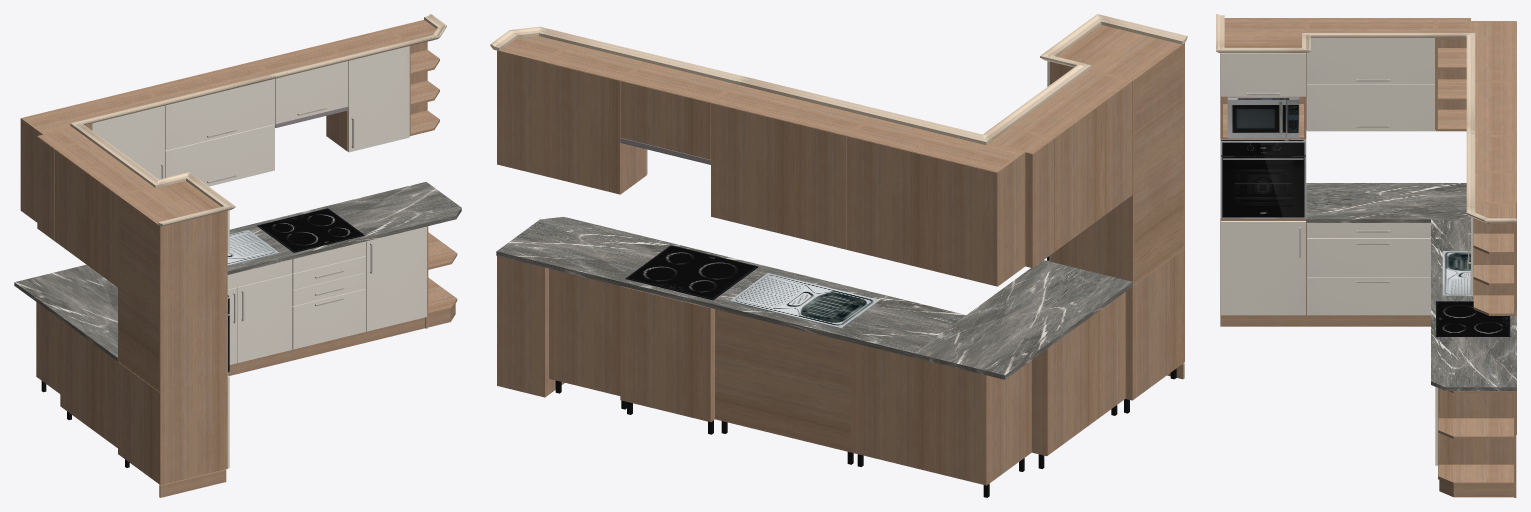
Rendered from Kitch4.glb.
The picture shows the model from 3 angles, left to right: view 1: azimuth 30°, elevation 25°; view 2: azimuth 150°, elevation 25°; view 3: azimuth 270°, elevation 25°; orthographic projection. The views are drawn at different scales.
Visible parts, largest first — view 1: KitchenBody, Front14, WorkTop, StoveCooker, Sink, HANDLES; view 2: KitchenBody, WorkTop, Sink, StoveCooker; view 3: KitchenBody, Front14, WorkTop, Oven, MicroWave, StoveCooker, Sink, HANDLES.
Boxes of the visible parts, bbox=[...] form: KitchenBody: bbox=[20, 14, 457, 497]; Front14: bbox=[92, 46, 426, 468]; WorkTop: bbox=[14, 182, 461, 361]; StoveCooker: bbox=[257, 208, 364, 252]; Sink: bbox=[227, 230, 279, 265]; HANDLES: bbox=[161, 106, 372, 323]; KitchenBody: bbox=[490, 14, 1187, 497]; WorkTop: bbox=[496, 216, 1132, 379]; Sink: bbox=[729, 273, 879, 328]; StoveCooker: bbox=[625, 245, 758, 300]; KitchenBody: bbox=[1216, 14, 1516, 497]; Front14: bbox=[1221, 38, 1473, 465]; WorkTop: bbox=[1306, 183, 1516, 390]; Oven: bbox=[1220, 139, 1306, 218]; MicroWave: bbox=[1227, 98, 1299, 138]; StoveCooker: bbox=[1436, 301, 1510, 336]; Sink: bbox=[1442, 251, 1470, 296]; HANDLES: bbox=[1247, 79, 1470, 282].
Size of the model in its own units: 0.3001 by 0.1895 by 0.1845.
13 materials, 13 textured.
